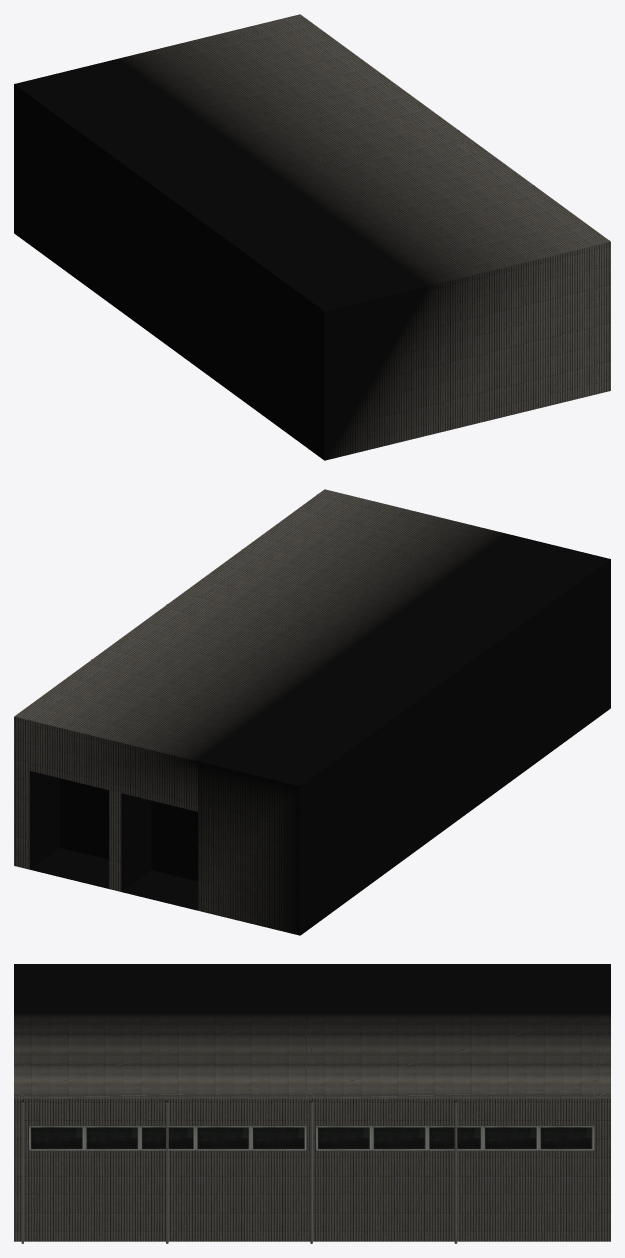
The model's file is YODO_SYAKO.glb.
The picture shows the model from 3 angles, top to bottom: view 1: azimuth 30°, elevation 25°; view 2: azimuth 150°, elevation 25°; view 3: azimuth 270°, elevation 25°; orthographic projection. The views are drawn at different scales.
Parts seen in each view (by area): view 1: obj3; view 2: obj3; view 3: obj3.
Part boxes in pixels (bbox=[...]): obj3: bbox=[14, 14, 610, 460]; obj3: bbox=[14, 489, 610, 935]; obj3: bbox=[14, 964, 610, 1243].
Size of the model in its own units: 55.63 by 27.55 by 103.
Materials: 5 (5 with a texture image).
